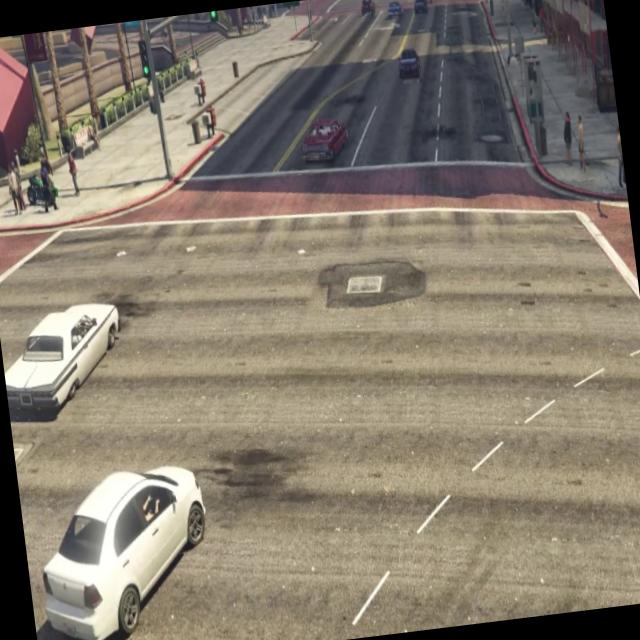Green-Signal: (134, 32, 154, 86), (279, 0, 304, 19), (204, 10, 223, 30)
